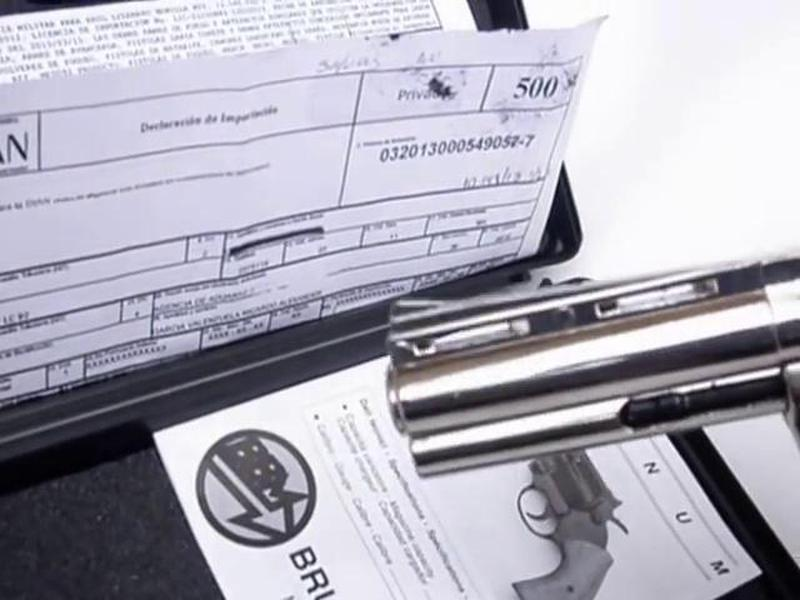Revolver: (374, 216, 800, 518)
